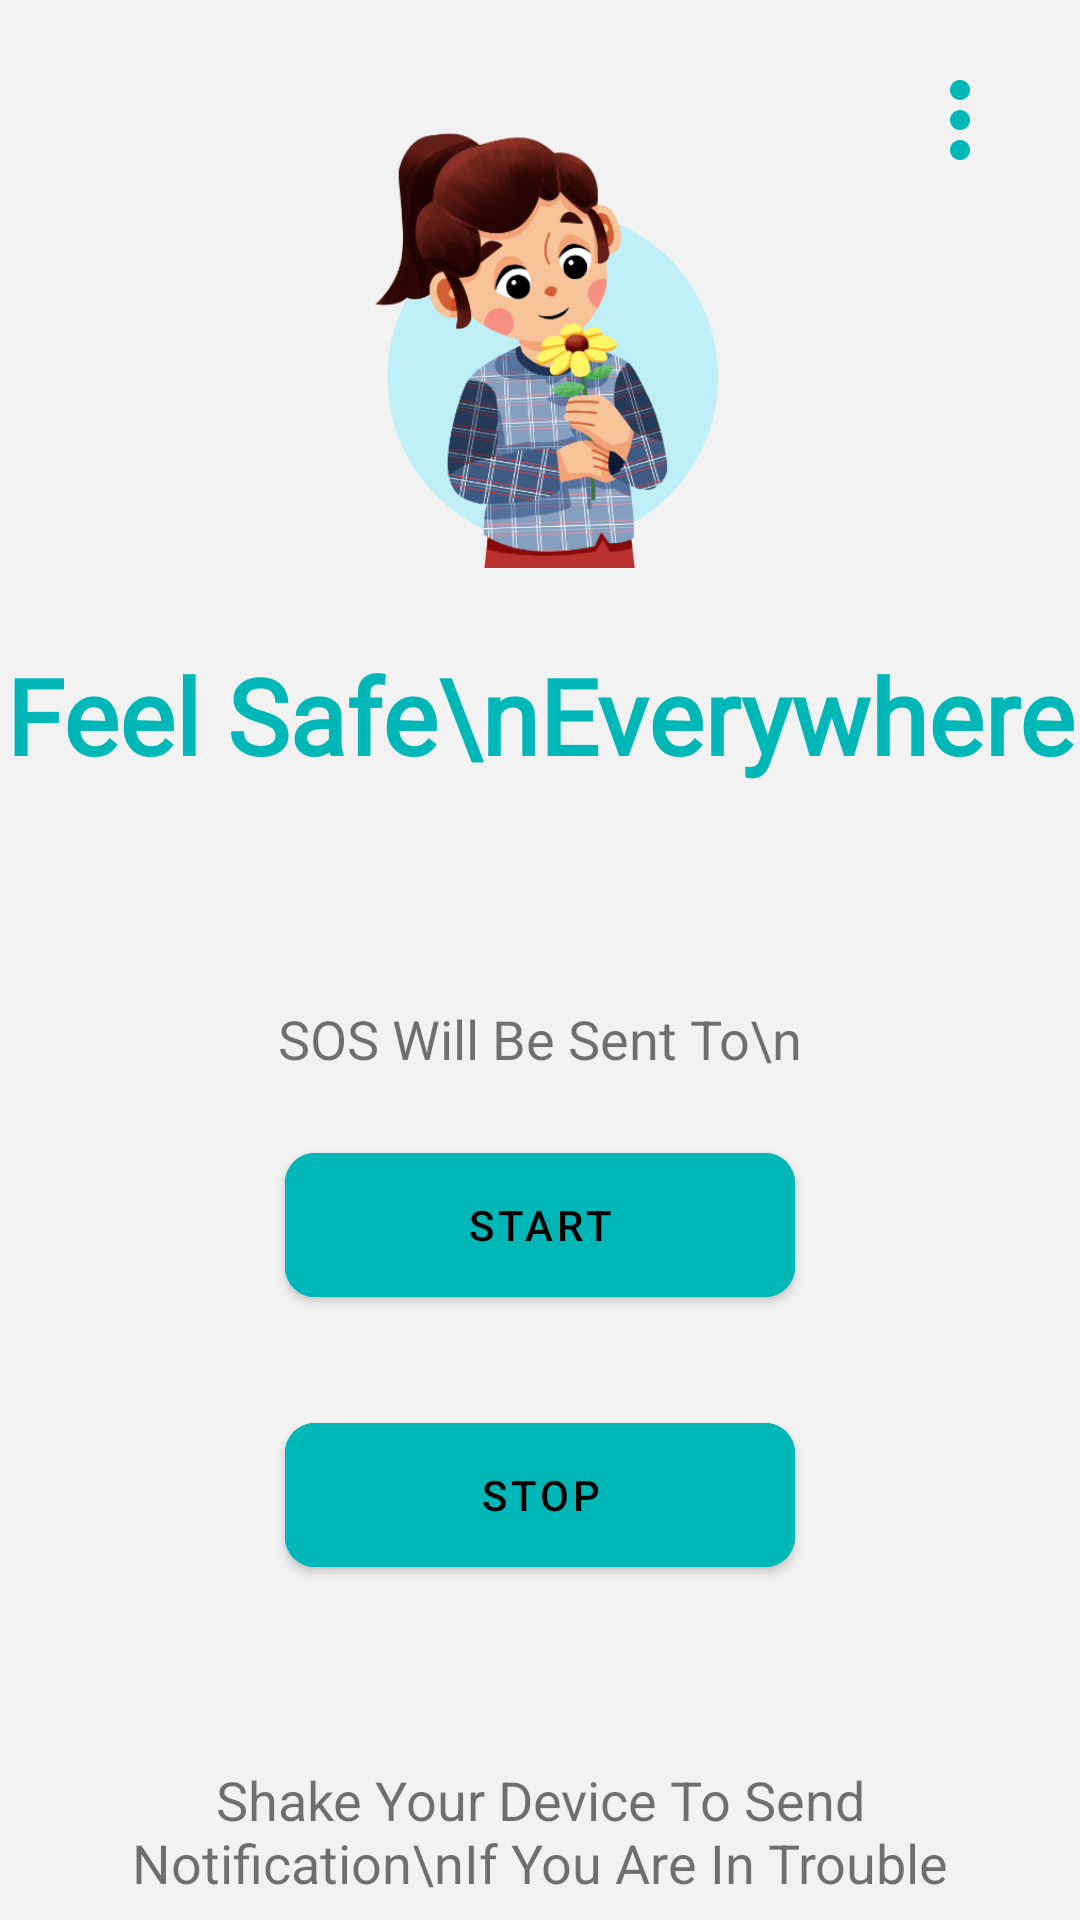

Screen size 1080w x 1920h. Icon name, then its box in pixels as (x1, y1, x2, y2):
more vert: (950, 80, 970, 160)
